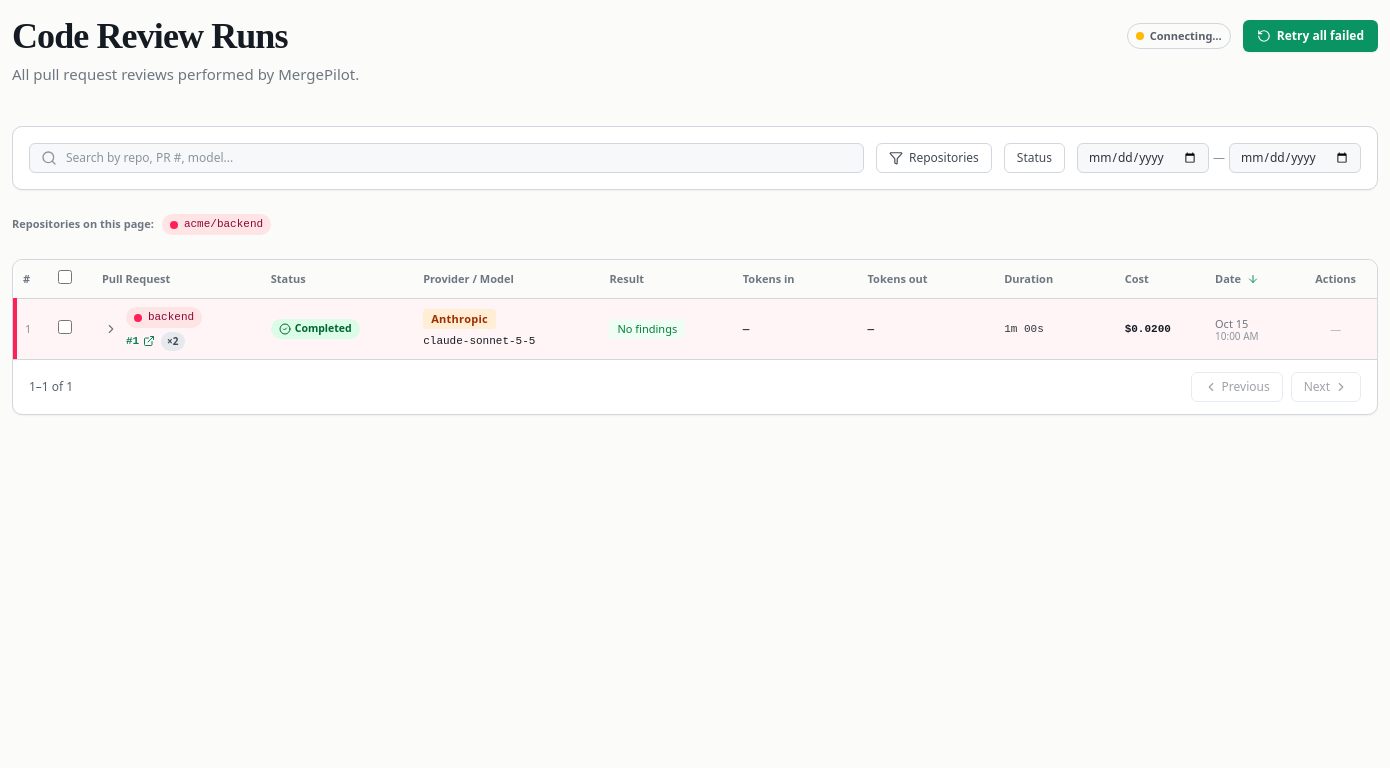
Test: bot chip on runs › names an older main-bot run (no name snapshot) after the main bot as it is now
Click the button named "Show the runs of" at point(111, 329), box [102,320,120,338]
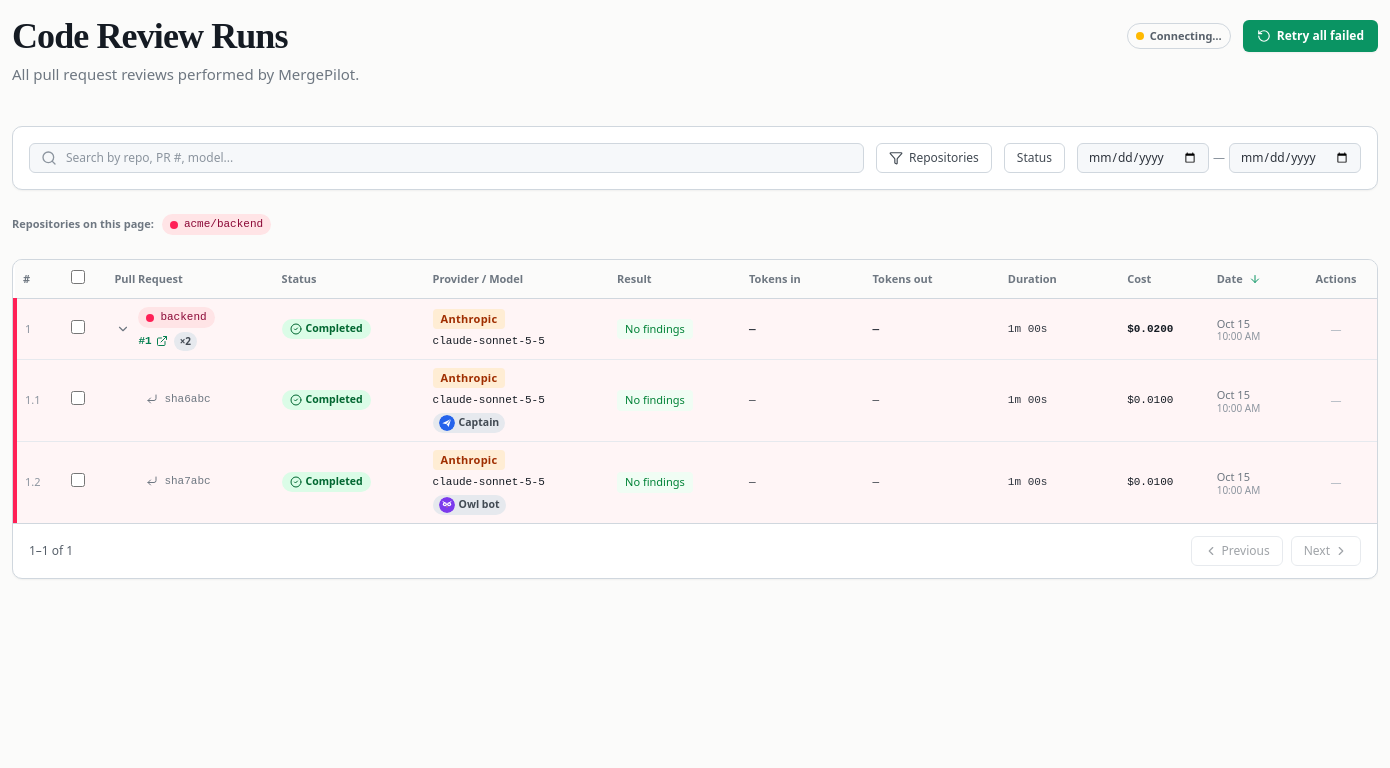
Result: the text with test id "run-bot-chip" reads "Captain" at [459,415,499,429]
